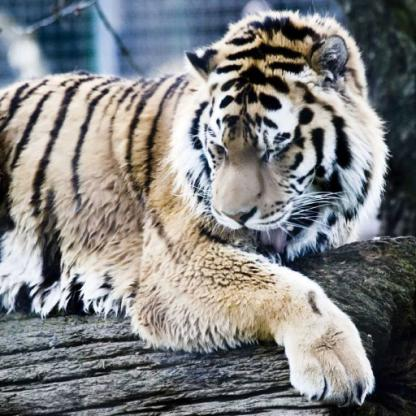Tiger: (0, 2, 388, 407)
